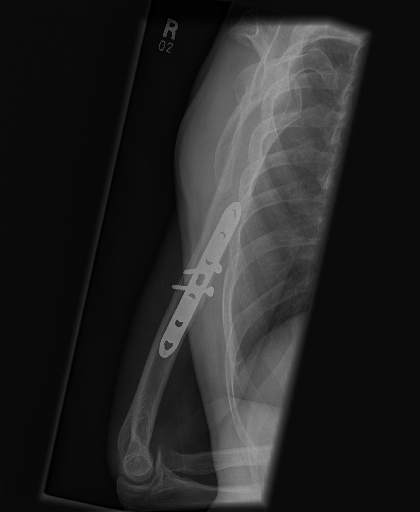implant: (161, 196, 244, 358)
